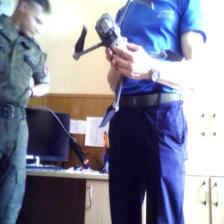drone: (74, 0, 182, 116)
